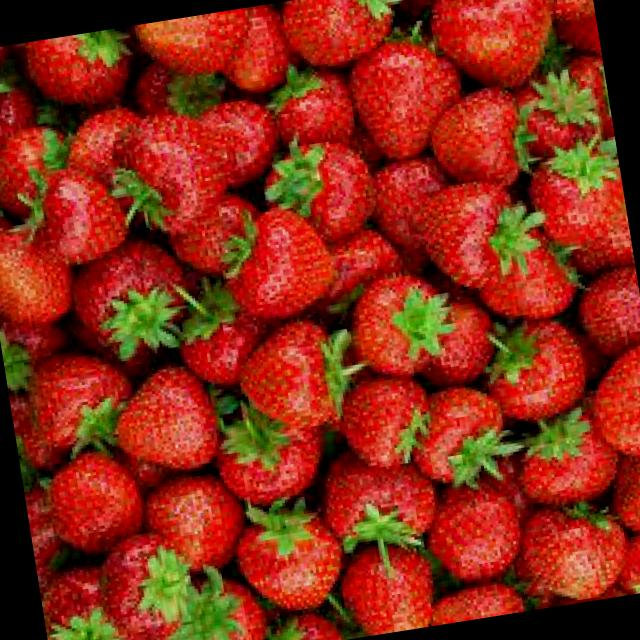strawberry: (398, 166, 552, 308), (56, 233, 202, 362), (346, 15, 466, 169), (109, 100, 231, 239), (218, 196, 342, 326), (242, 314, 368, 436), (109, 358, 226, 484), (228, 497, 345, 622), (482, 302, 591, 426), (11, 160, 124, 276), (421, 478, 532, 596), (426, 84, 544, 194), (428, 0, 570, 89), (24, 344, 134, 458), (326, 448, 441, 556), (212, 404, 320, 516), (346, 272, 454, 380), (518, 502, 625, 610), (403, 384, 507, 493), (49, 446, 152, 552), (509, 416, 614, 514), (147, 480, 242, 580)
